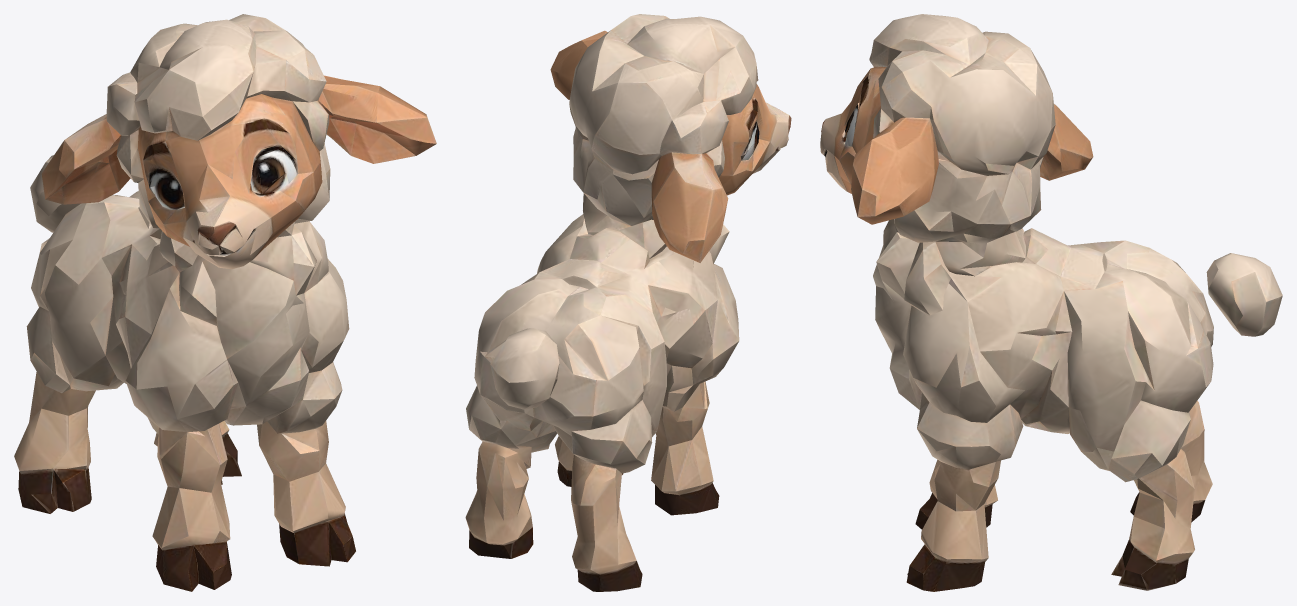
Rendered from lamb.glb.
The picture shows the model from 3 angles, left to right: view 1: azimuth 30°, elevation 25°; view 2: azimuth 150°, elevation 25°; view 3: azimuth 270°, elevation 25°; orthographic projection. The views are drawn at different scales.
Bounding box in the file's own units: 1.03 × 1.9 × 1.56.
1 material, 1 textured.
